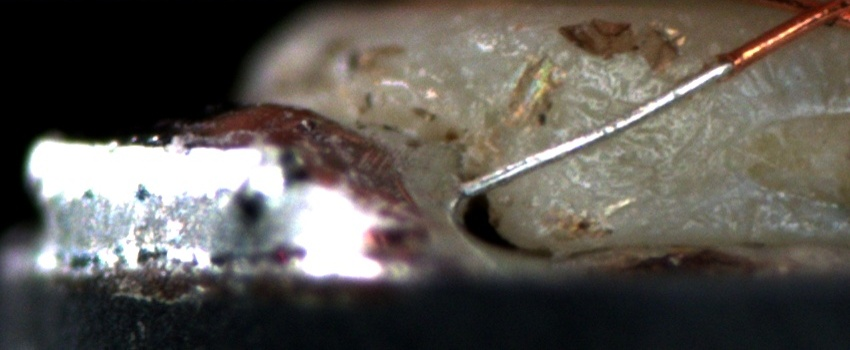CL: (775, 1, 847, 32)
DL: (744, 93, 850, 134)
TS: (463, 56, 734, 197)
